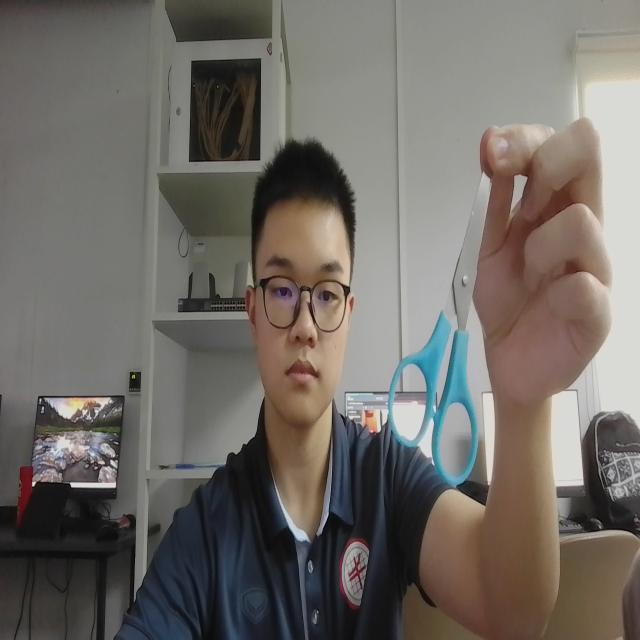scissors: (380, 137, 498, 489)
